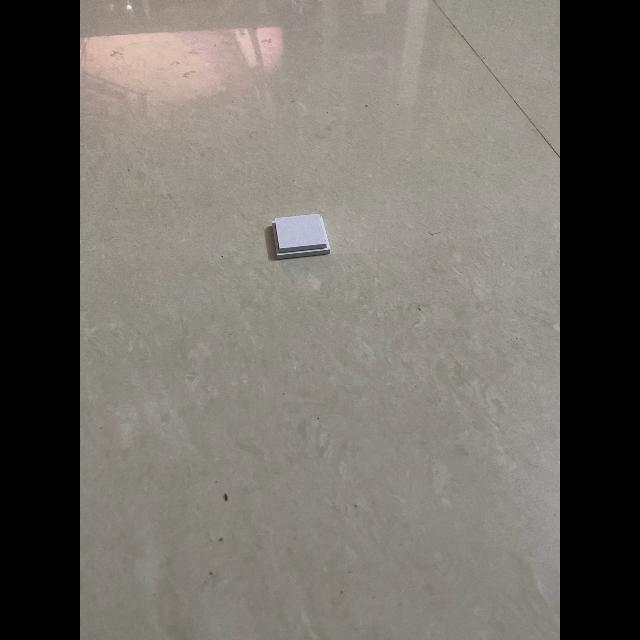RASPBERY PI CAM ENCLOSURE: (272, 214, 330, 260)
